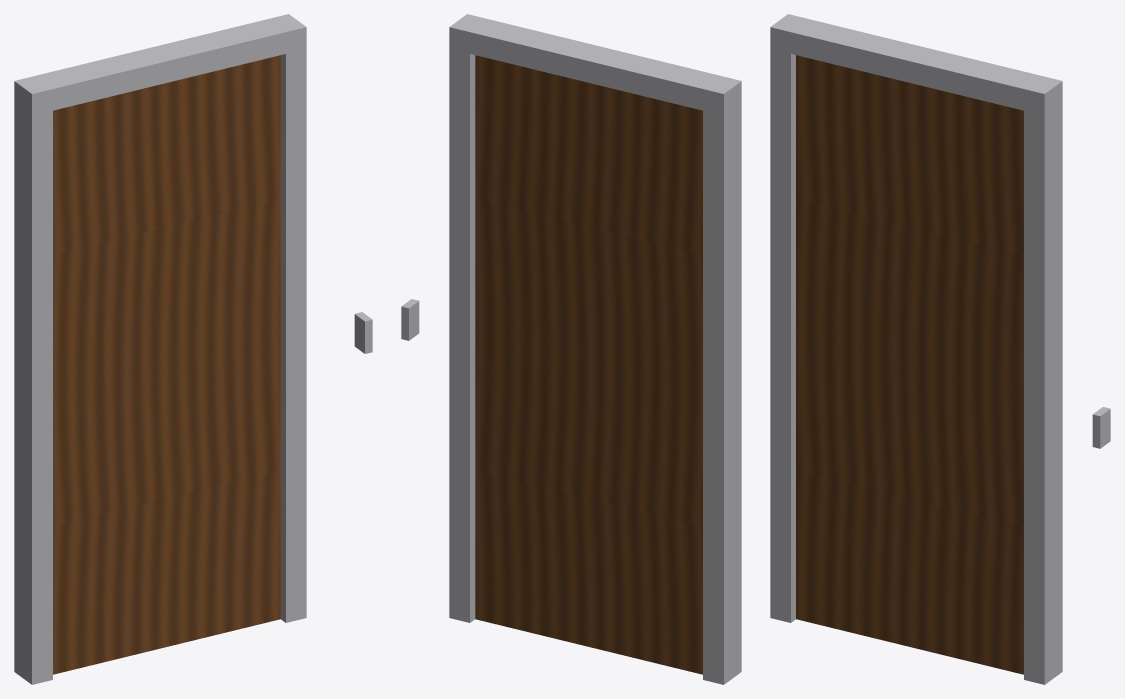
The model's file is door.glb.
3 views of the same model, side by side, from view 1: azimuth 30°, elevation 25°; view 2: azimuth 150°, elevation 25°; view 3: azimuth 330°, elevation 25° (orthographic).
Parts seen in each view (by area): view 1: door_panel, door_frame, door_handle; view 2: door_panel, door_frame, door_handle; view 3: door_panel, door_frame, door_handle.
Part boxes in pixels (box(x1,y1,x2,y2)): door_panel: box(53, 55, 280, 674); door_frame: box(14, 14, 306, 684); door_handle: box(354, 312, 372, 353); door_panel: box(475, 55, 702, 674); door_frame: box(449, 14, 741, 684); door_handle: box(401, 299, 419, 340); door_panel: box(796, 55, 1023, 674); door_frame: box(770, 14, 1062, 684); door_handle: box(1092, 407, 1110, 448).
Size of the model in its own units: 1.29 by 2.18 by 0.155.
Materials: 2 (1 with a texture image).
